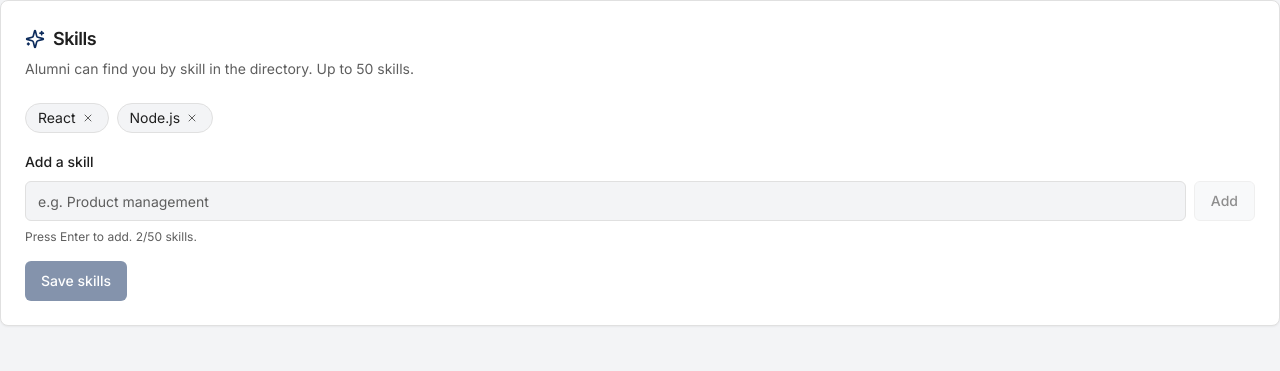
<SkillsSection> › adds with Enter, removes, de-duplicates and PUTs the whole list
Expected: the button "Save skills" is disabled, 25,261 -> 127,301
Step 1. Type "  go " into the field labelled "Add a skill" → (605, 201), box 25,181 -> 1186,221
Then press Enter
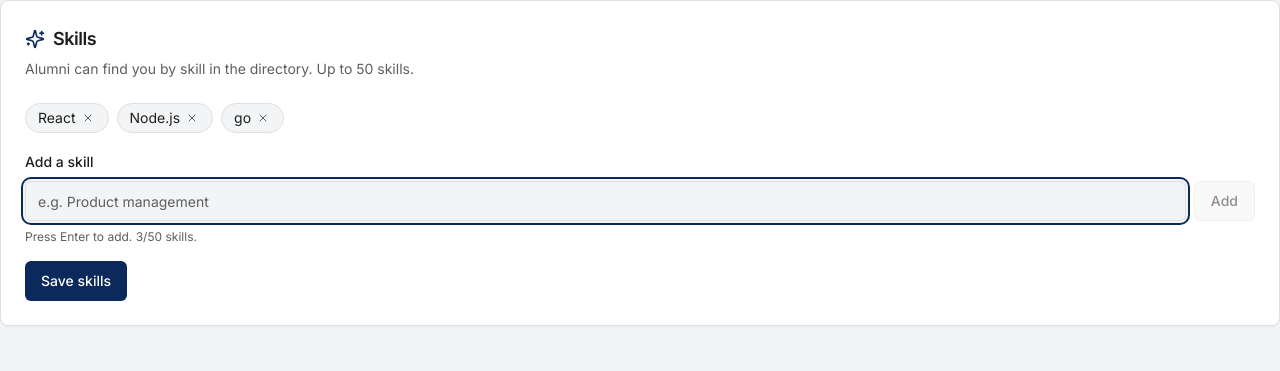
Expected: the list item "go" is shown, 221,103 -> 284,133
Step 2. Type "REACT" into the field labelled "Add a skill" → (605, 201), box 25,181 -> 1186,221
Then press Enter
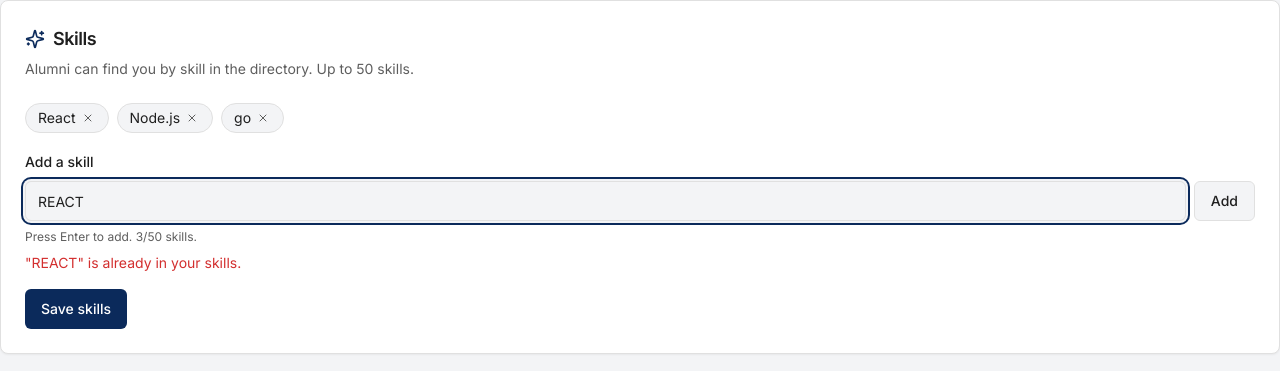
Expected: the number of list items is 3, 25,103 -> 108,133; 116,103 -> 213,133; 221,103 -> 284,133
Expected: the message reads "\"REACT\" is already in your skills.", 25,254 -> 241,271
Step 3. Click the button named "Remove Node.js" → (192, 118), box 184,110 -> 200,126
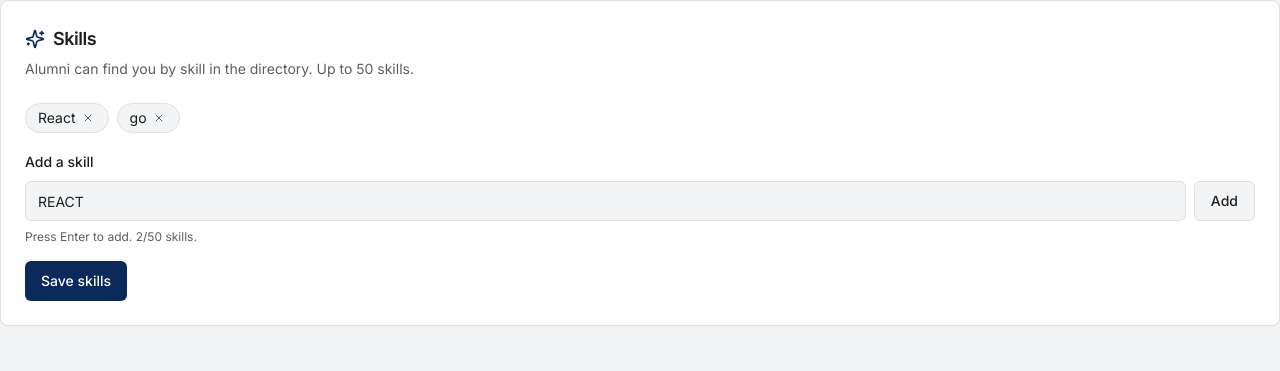
Expected: the list item "Node.js" is gone
Step 4. Click the button "Save skills" → (76, 281), box 25,261 -> 127,301
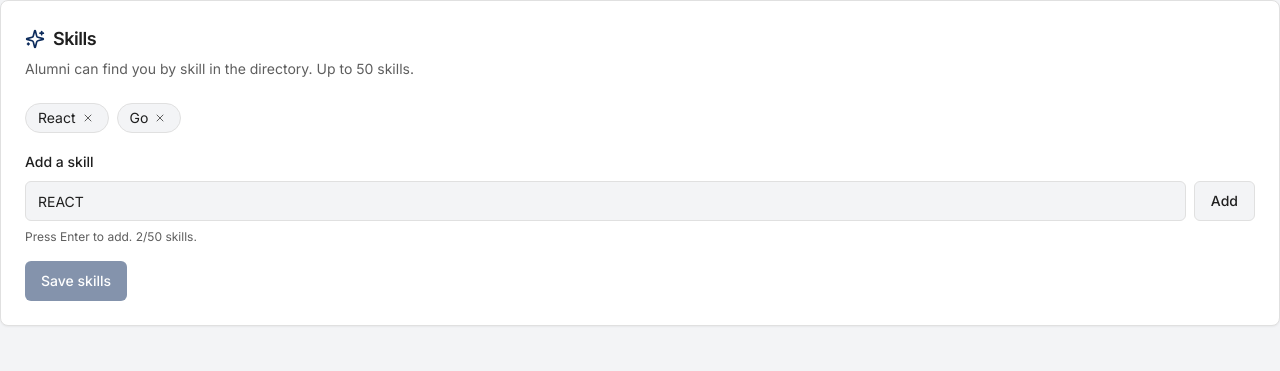
Expected: the list item "Go" is shown, 116,103 -> 181,133
Expected: the button "Save skills" is disabled, 25,261 -> 127,301
